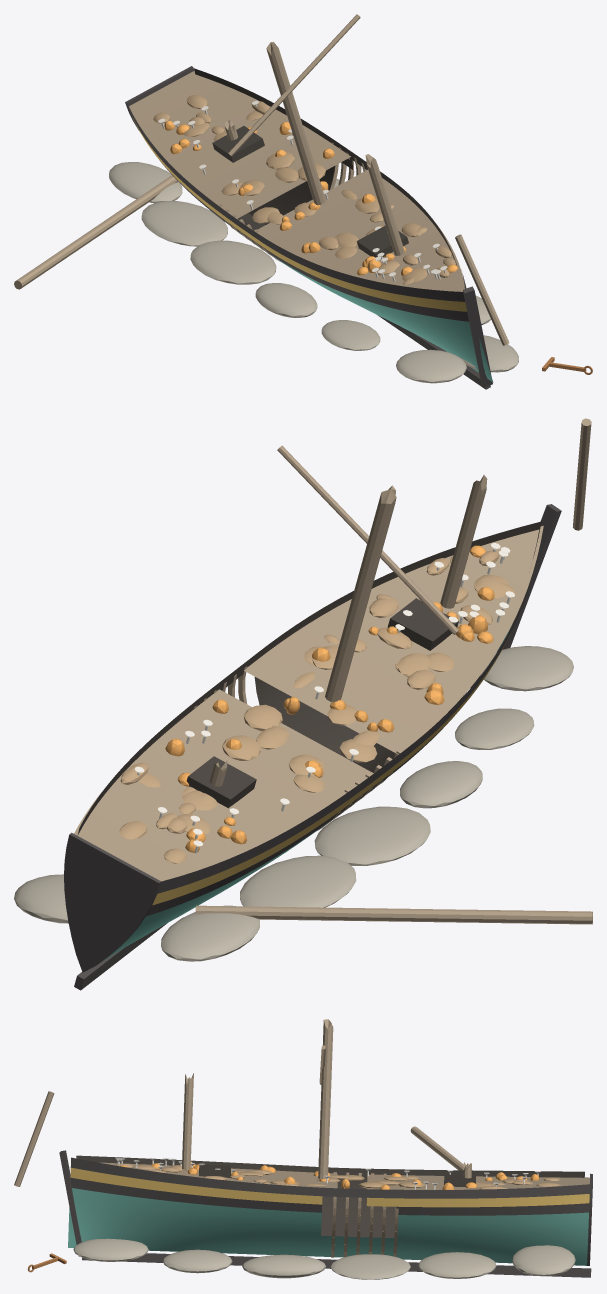
Rendered from ShipWreck.glb.
3 views of the same model, one above another, from view 1: azimuth 30°, elevation 25°; view 2: azimuth 150°, elevation 25°; view 3: azimuth 270°, elevation 25° (orthographic). The views are drawn at different scales.
Parts seen in each view (by area): view 1: ShipWreck; view 2: ShipWreck; view 3: ShipWreck.
Part boxes in pixels (x1,y1,x2,y2): ShipWreck: [14, 14, 592, 389]; ShipWreck: [14, 418, 592, 990]; ShipWreck: [14, 1019, 592, 1279].
Bounding box in the file's own units: 23.95 × 18.07 × 40.13.
